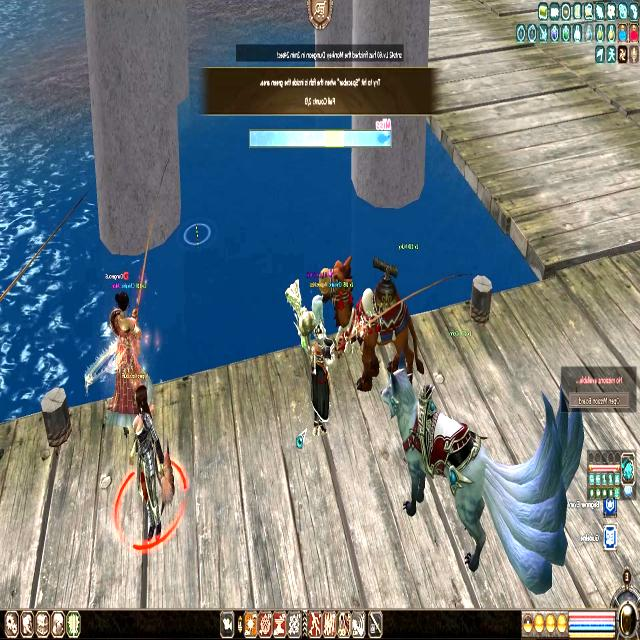fishes: (377, 131, 391, 146)
